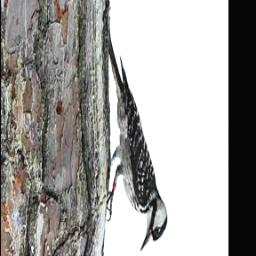Woodpecker: (104, 16, 170, 252)
